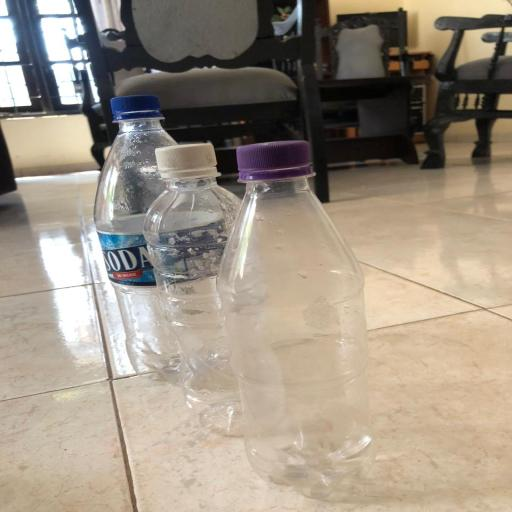waste: (92, 95, 392, 501)
